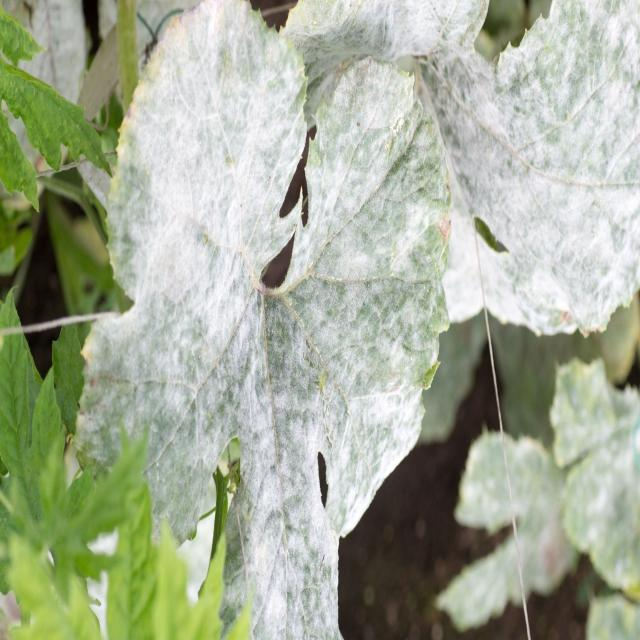Powdery Mildew: (72, 1, 452, 637)
